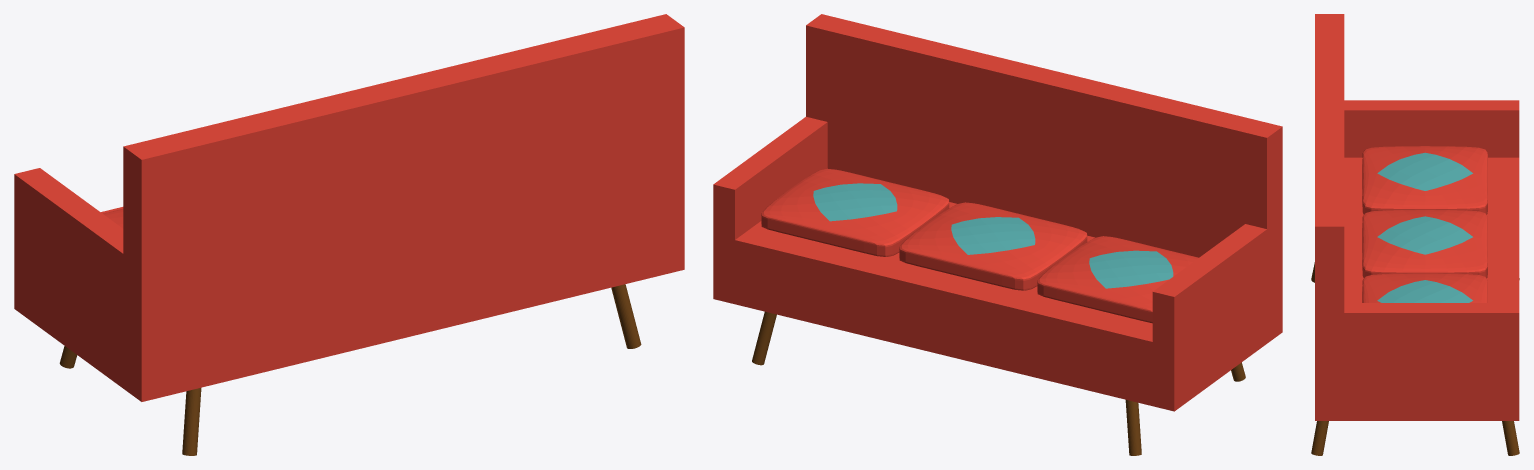
Rendered from canape.fbx.
The picture shows the model from 3 angles, left to right: view 1: azimuth 30°, elevation 25°; view 2: azimuth 150°, elevation 25°; view 3: azimuth 270°, elevation 25°; orthographic projection. The views are drawn at different scales.
Parts seen in each view (by area): view 1: Canape, Pieds; view 2: Canape, Coussin, Dessins, Pieds; view 3: Canape, Coussin, Dessins, Pieds.
Boxes of the visible parts, x1,y1,x2,y2 form: Canape: (14,14,684,401); Pieds: (59,284,641,455); Canape: (713,14,1282,411); Coussin: (761,168,1198,323); Dessins: (813,183,1173,288); Pieds: (752,311,1245,455); Canape: (1315,14,1519,420); Coussin: (1362,146,1487,302); Dessins: (1377,152,1472,302); Pieds: (1311,262,1519,455).
Bounding box in the file's own units: 534 × 290 × 221.
